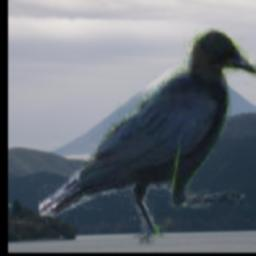Crow: (39, 29, 256, 246)
